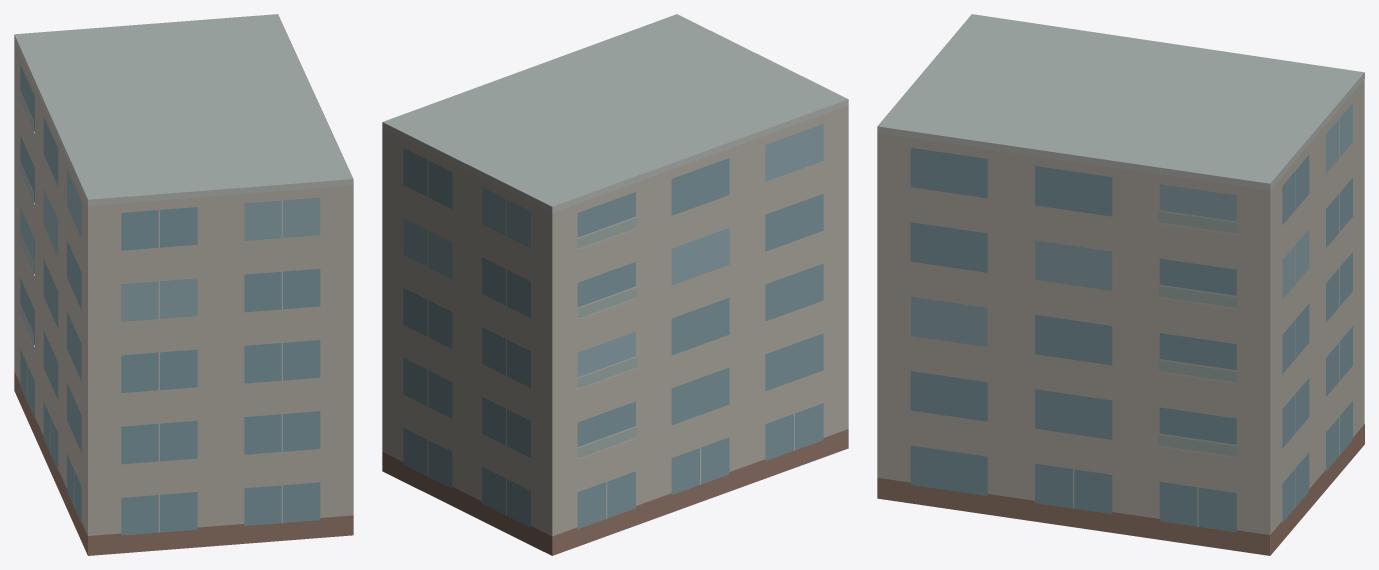
File: survey-upis-32888418.glb
3 renders of one model, left to right at view 1: azimuth 30°, elevation 25°; view 2: azimuth 150°, elevation 25°; view 3: azimuth 270°, elevation 25°, orthographic. The views are drawn at different scales.
Visible parts, largest first — view 1: survey-upis-32888418.tmp; view 2: survey-upis-32888418.tmp; view 3: survey-upis-32888418.tmp.
Boxes of the visible parts, <box> form: survey-upis-32888418.tmp: <box>14,14,353,555</box>; survey-upis-32888418.tmp: <box>382,14,848,555</box>; survey-upis-32888418.tmp: <box>877,14,1364,555</box>.
Bounding box in the file's own units: 13.51 × 13.8 × 16.39.
